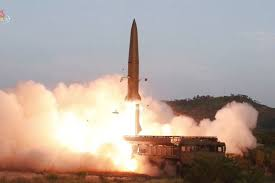ten_lua: (120, 11, 147, 102)
